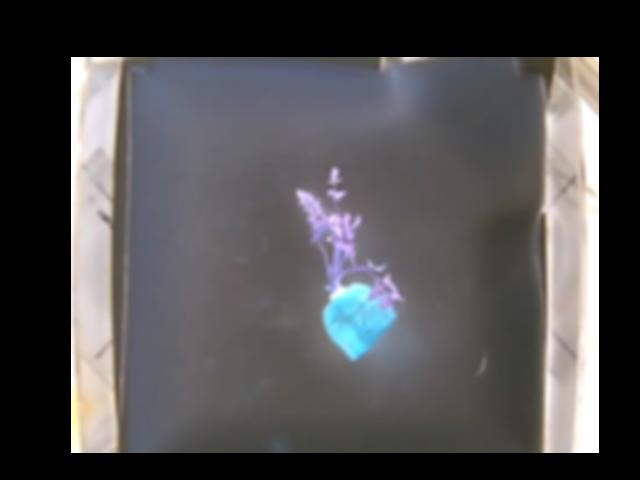Carrot: (295, 165, 405, 359)
